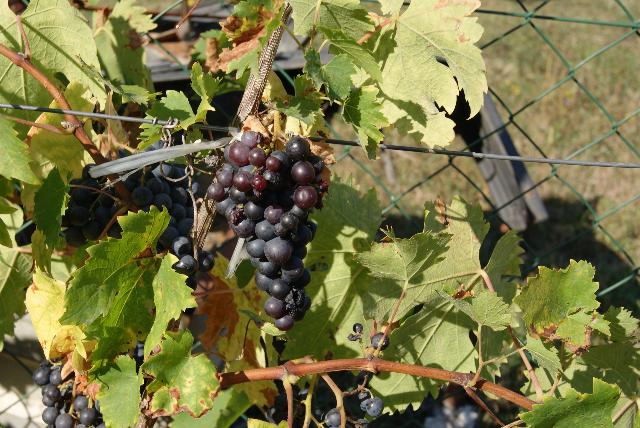grapes: (208, 130, 329, 330), (131, 162, 198, 288)
